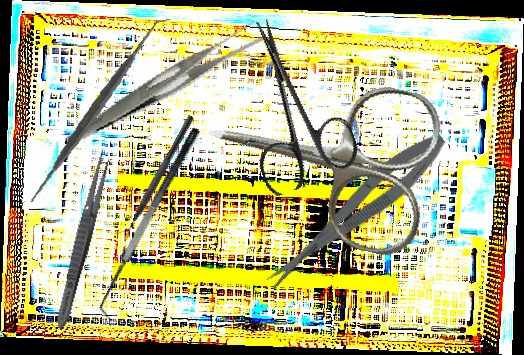Chopper: (114, 110, 195, 241)
Dressing Forceps: (51, 19, 277, 145), (51, 146, 115, 333)
Iris Scissors: (189, 49, 448, 262), (212, 4, 365, 199)
Micro Scissor: (255, 124, 455, 296)
Spatula Surgical: (3, 19, 187, 203), (87, 125, 216, 321)
